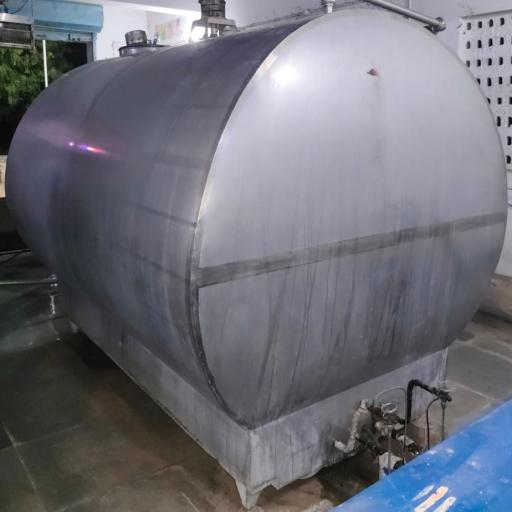silo: (5, 6, 509, 494)
